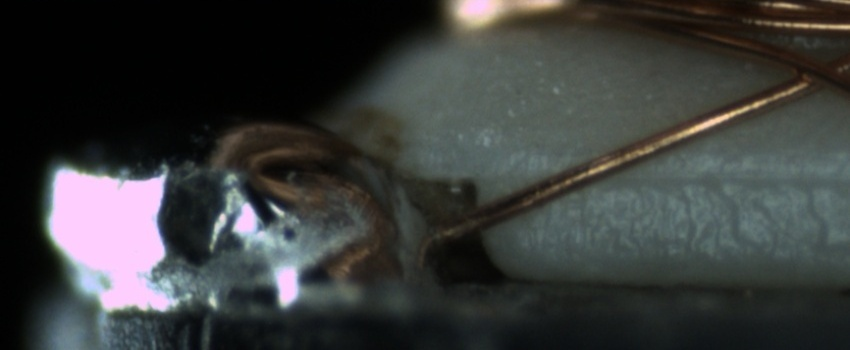CL: (766, 45, 846, 101)
DL: (547, 142, 845, 207)
